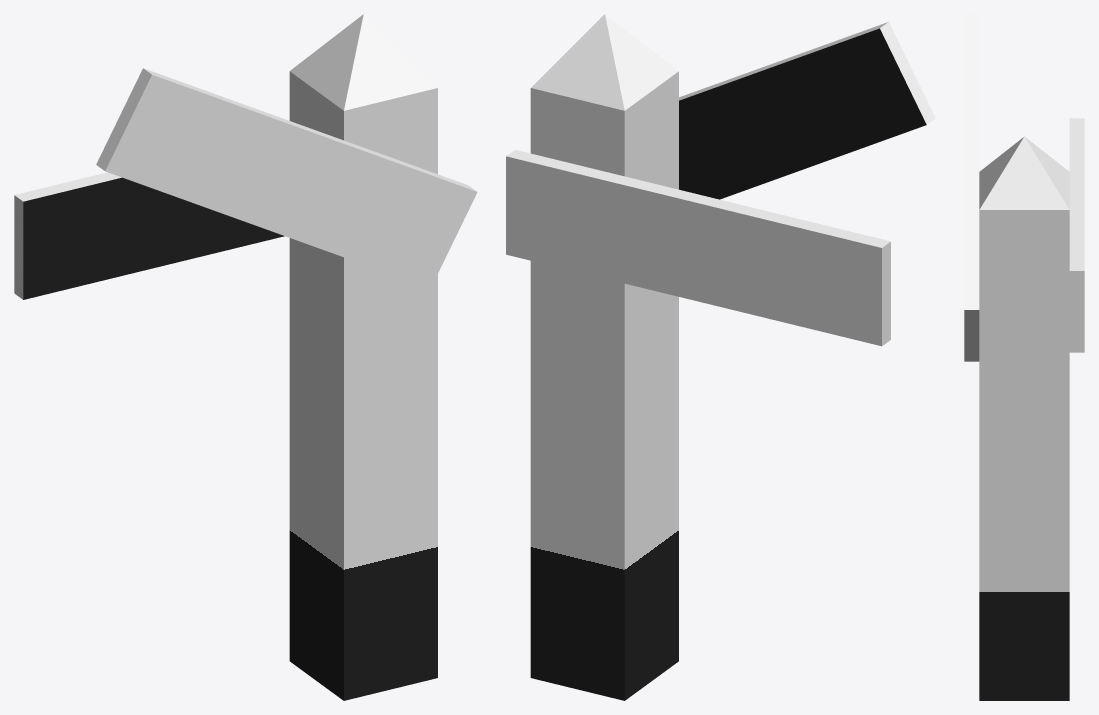
The model's file is gradient_post_item.obj.
3 renders of one model, left to right at view 1: azimuth 30°, elevation 25°; view 2: azimuth 150°, elevation 25°; view 3: azimuth 270°, elevation 25°, orthographic. The views are drawn at different scales.
Visible parts, largest first — view 1: cylinder, cube, pyramid; view 2: cylinder, cube, pyramid; view 3: cylinder, cube, pyramid.
Boxes of the visible parts, <box> form: cylinder: <box>289,71,437,700</box>; cube: <box>14,68,477,299</box>; pyramid: <box>290,14,437,110</box>; cylinder: <box>530,71,678,700</box>; cube: <box>506,22,935,346</box>; pyramid: <box>531,14,678,110</box>; cylinder: <box>979,210,1069,700</box>; cube: <box>964,14,1084,361</box>; pyramid: <box>979,136,1069,209</box>.
Bounding box in the file's own units: 0.7801 × 1.3 × 0.25.
